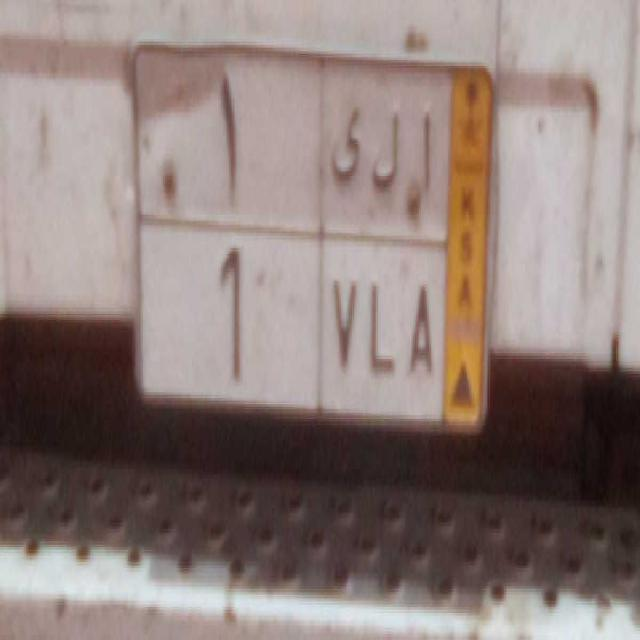license_plate: (135, 222, 447, 421)
